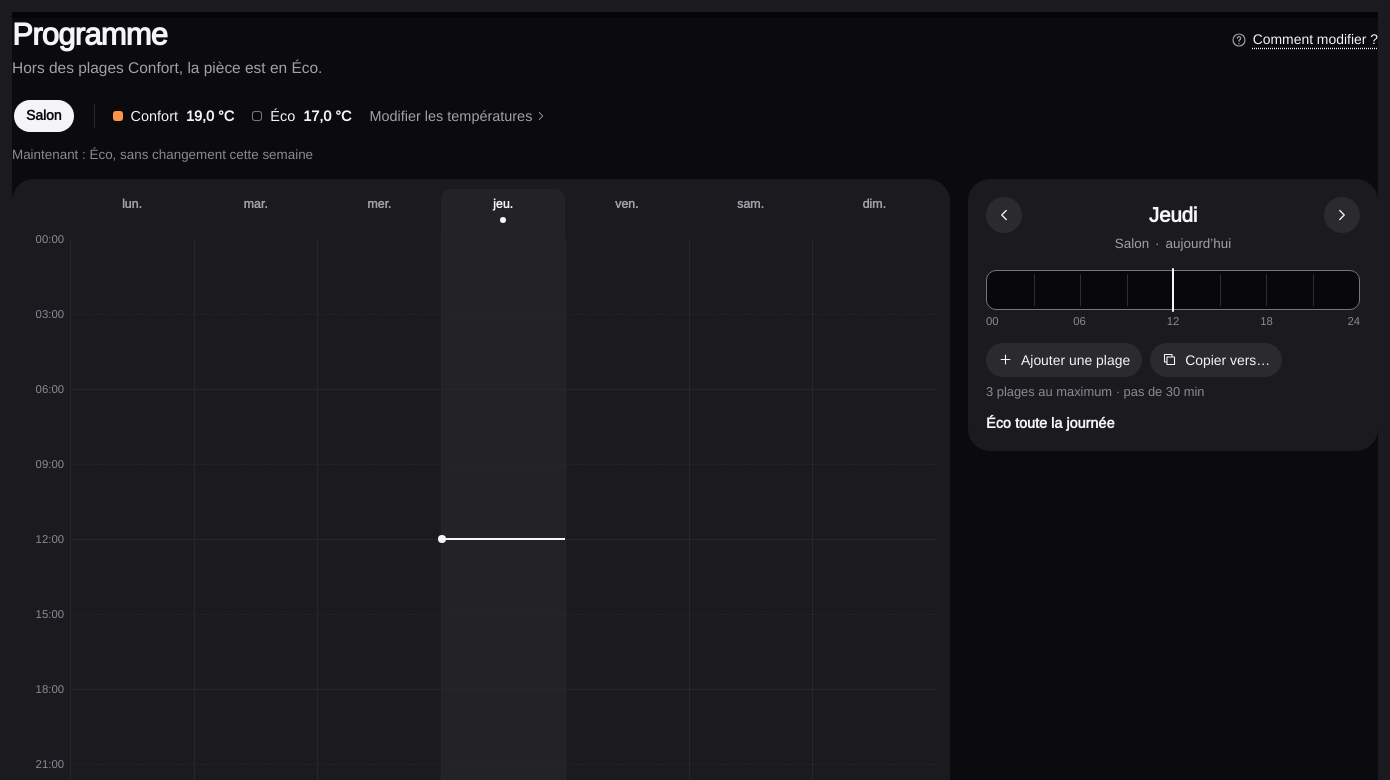
/schedule: what the page says › an edited day says « modifié » in the week and in the editor
The width and height of the screenshot is (1390, 780).
Step 1. Click the button with aria-label "Lundi," → [132, 214], box top-left (70, 189), bottom-right (194, 239)
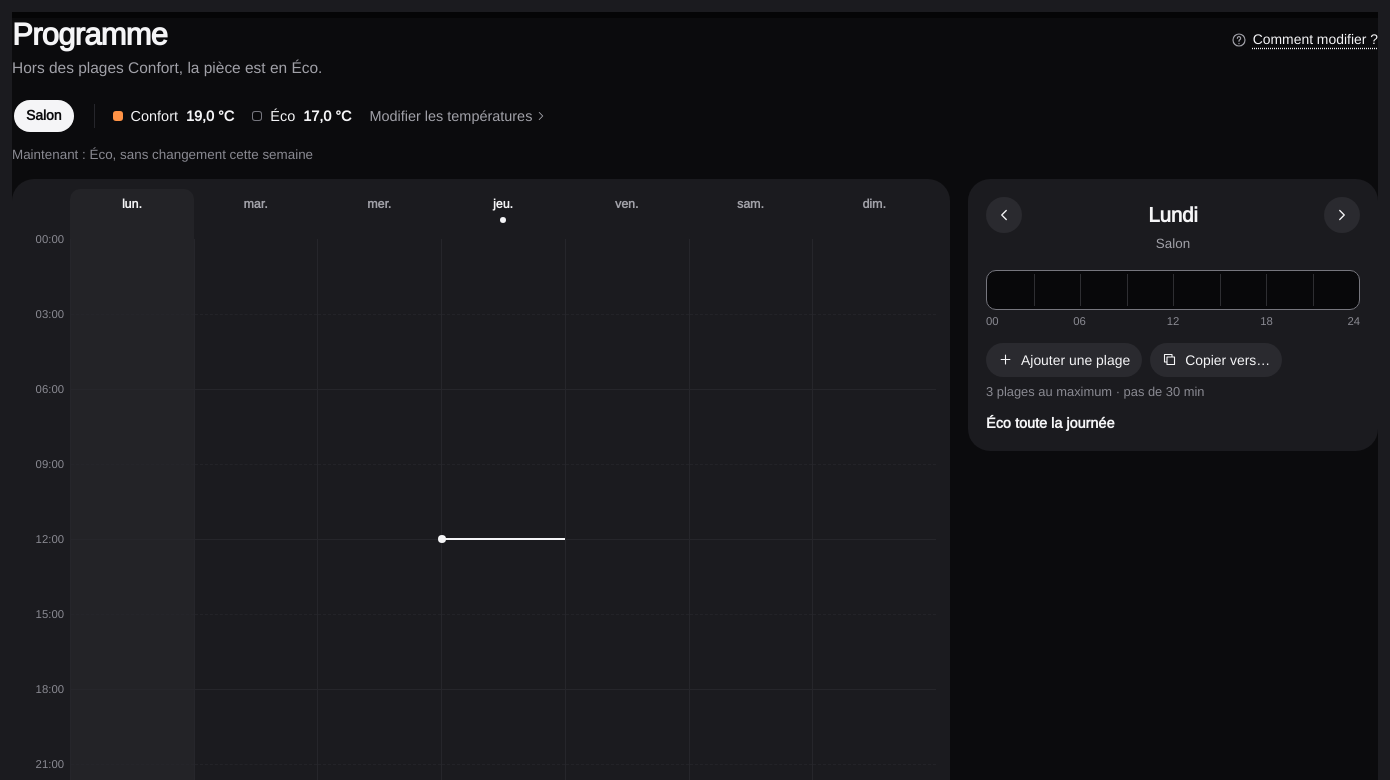
Step 2. Click the button with aria-label "Ajouter une plage le Lundi" → [1064, 360], box top-left (986, 343), bottom-right (1142, 377)
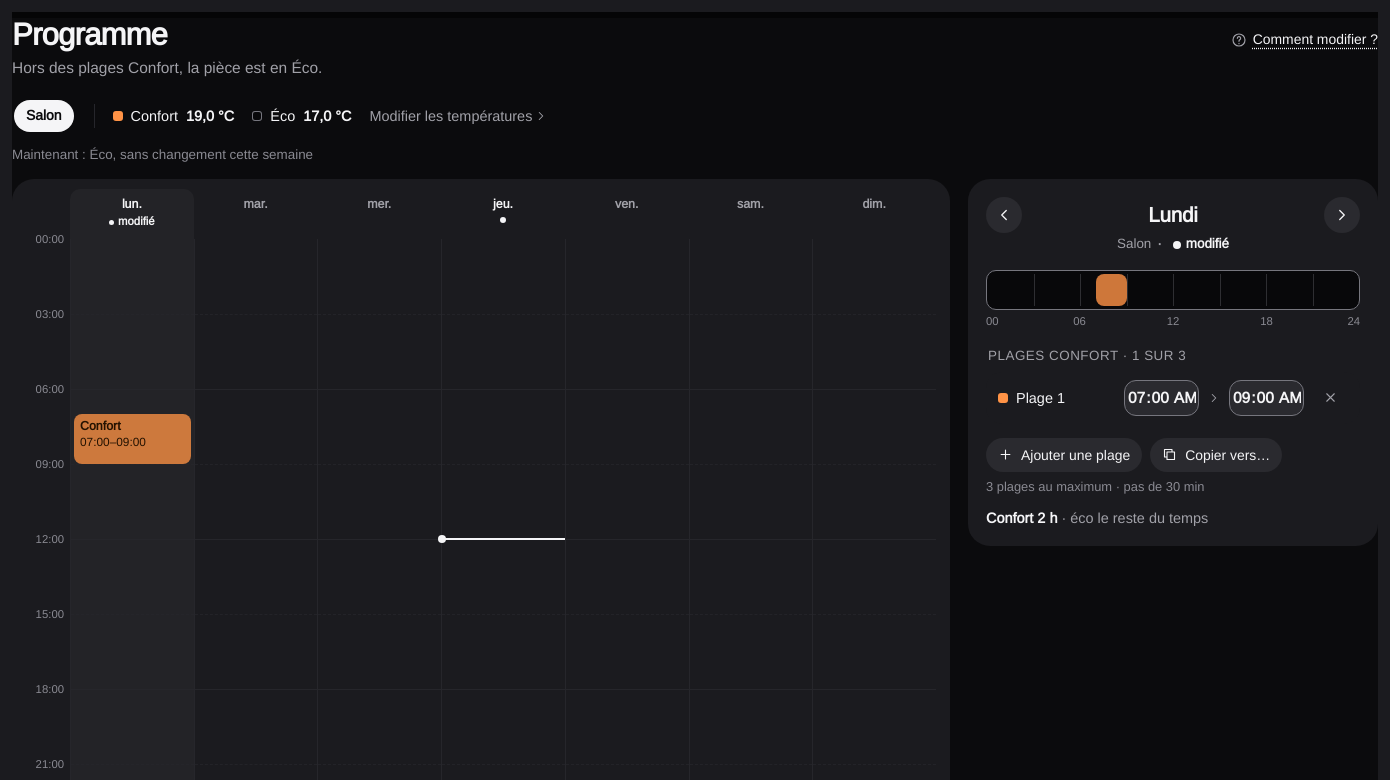
Expected: the heading "Lundi" is shown, top-left (1148, 202), bottom-right (1198, 228)
Expected: the element with class "sub" reads "Salon modifié", top-left (1117, 235), bottom-right (1229, 252)
Expected: the text "modifié" is shown, top-left (109, 214), bottom-right (155, 230)
